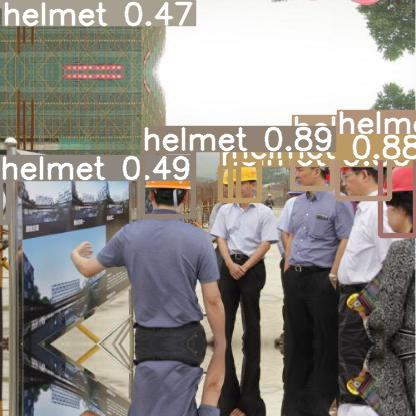helmet: (142, 151, 193, 216), (337, 135, 389, 198), (380, 154, 415, 235), (292, 140, 332, 188), (230, 159, 259, 200), (220, 166, 238, 200), (0, 180, 8, 222), (2, 0, 19, 7)
